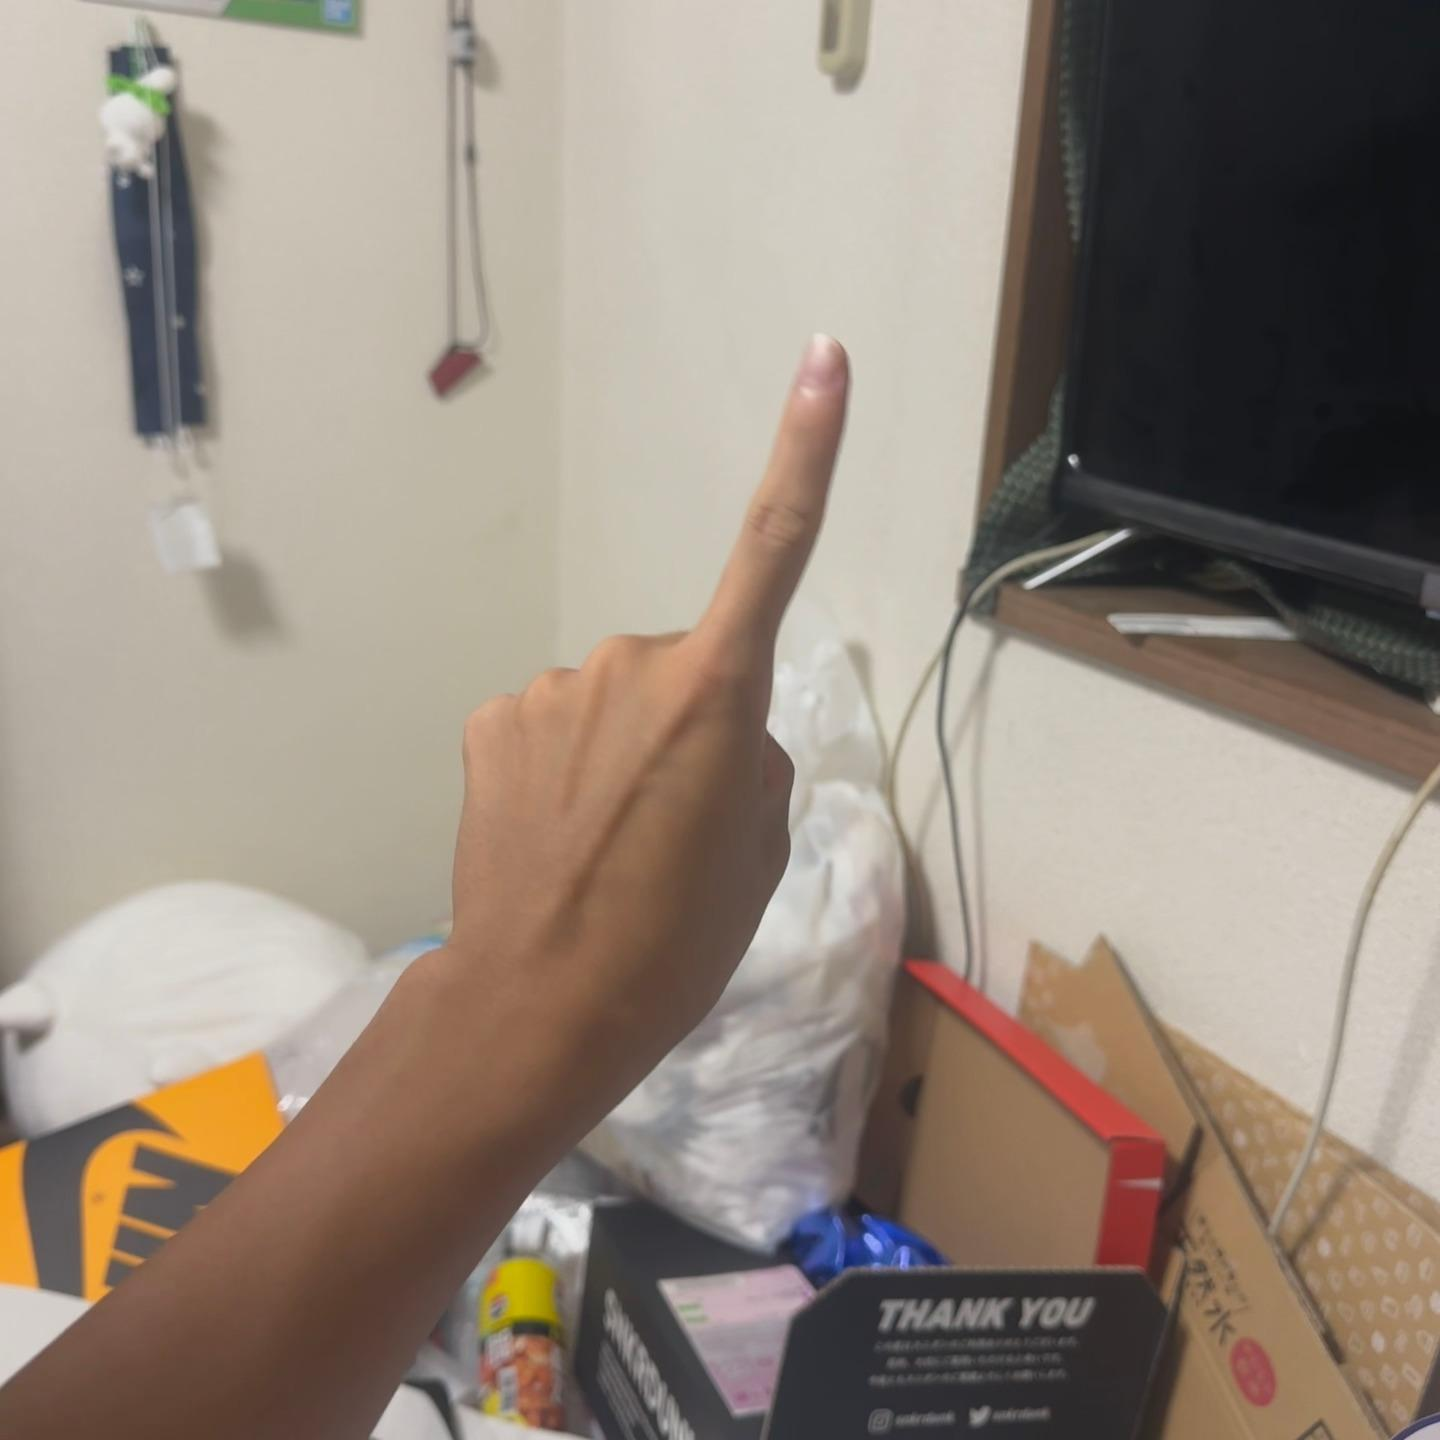without_gloves: (390, 235, 959, 1303)
